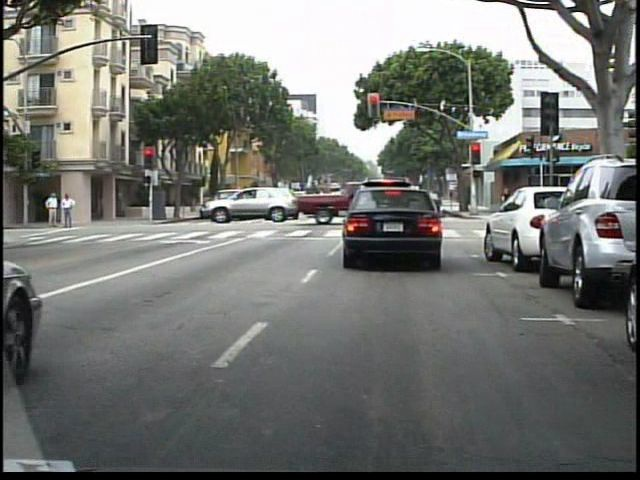person: (42, 189, 59, 232), (59, 191, 76, 231)
